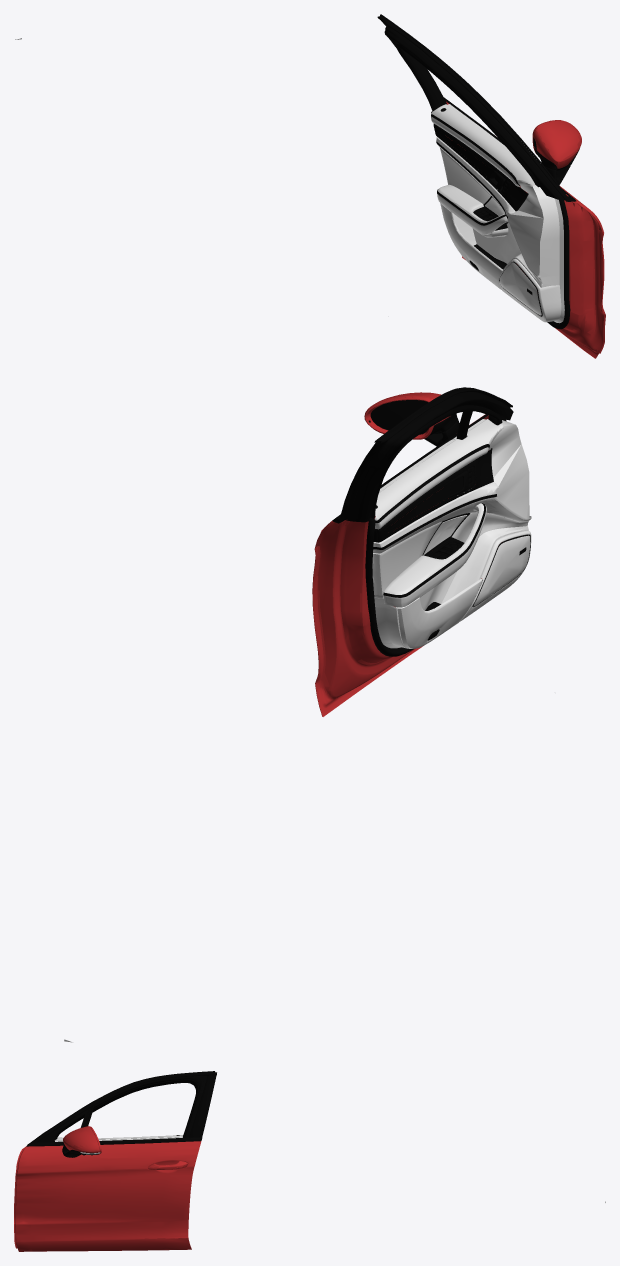
Rendered from Stanga_Fata.fbx.
3 renders of one model, top to bottom at view 1: azimuth 30°, elevation 25°; view 2: azimuth 150°, elevation 25°; view 3: azimuth 270°, elevation 25°, orthographic. The views are drawn at different scales.
Visible parts, largest first — view 1: door_LF; view 2: door_LF; view 3: door_LF.
Part boxes in pixels (x1,y1,x2,y2): door_LF: [15, 14, 605, 358]; door_LF: [64, 387, 531, 1042]; door_LF: [14, 1071, 605, 1251].
Bounding box in the file's own units: 1401 × 1977 × 6627.
